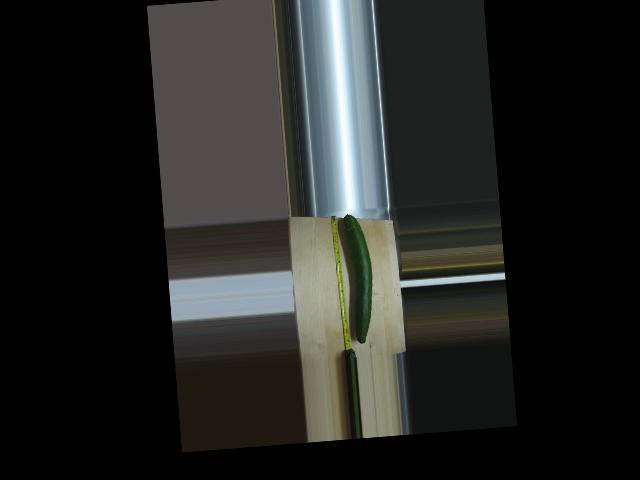cucumber: (341, 213, 377, 344)
